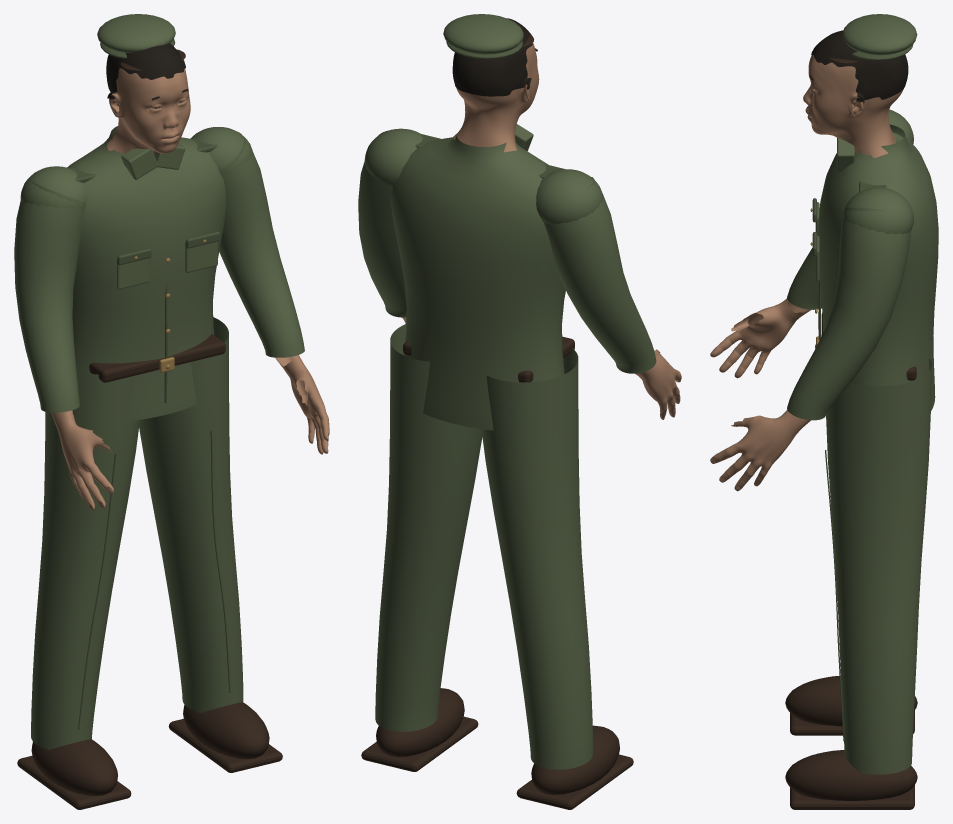
Rendered from chinese.glb.
3 views of the same model, side by side, from view 1: azimuth 30°, elevation 25°; view 2: azimuth 150°, elevation 25°; view 3: azimuth 270°, elevation 25° (orthographic). The views are drawn at different scales.
Visible parts, largest first — view 1: structured jacket, loose pressed trousers, loose pressed trousers.001, continuous long sleeve, anatomical face neck and hands, continuous long sleeve.001, closed leather shoe.001, closed leather shoe, service cap, shaped hair scalp, rounded shoulder seam, leather waist belt (+6 smaller); view 2: structured jacket, loose pressed trousers, loose pressed trousers.001, continuous long sleeve, anatomical face neck and hands, continuous long sleeve.001, shaped hair scalp, rounded shoulder seam, closed leather shoe, closed leather shoe.001, service cap, rounded shoulder seam.001 (+2 smaller); view 3: loose pressed trousers.001, structured jacket, anatomical face neck and hands, continuous long sleeve.001, closed leather shoe.001, shaped hair scalp, rounded shoulder seam.001, service cap, closed leather shoe, shoe sole.001, continuous long sleeve, shoe sole (+3 smaller).
Boxes of the visible parts, x1=… form: structured jacket: x1=67, y1=126, x2=226, y2=420; loose pressed trousers: x1=31, y1=372, x2=139, y2=749; loose pressed trousers.001: x1=139, y1=317, x2=243, y2=712; continuous long sleeve: x1=14, y1=181, x2=86, y2=412; anatomical face neck and hands: x1=51, y1=68, x2=329, y2=510; continuous long sleeve.001: x1=219, y1=132, x2=304, y2=357; closed leather shoe.001: x1=183, y1=702, x2=269, y2=759; closed leather shoe: x1=31, y1=739, x2=117, y2=795; service cap: x1=97, y1=14, x2=175, y2=52; shaped hair scalp: x1=106, y1=43, x2=185, y2=99; rounded shoulder seam: x1=20, y1=166, x2=86, y2=209; leather waist belt: x1=89, y1=334, x2=225, y2=382; structured jacket: x1=390, y1=132, x2=565, y2=430; loose pressed trousers: x1=481, y1=348, x2=593, y2=769; loose pressed trousers.001: x1=375, y1=324, x2=482, y2=731; continuous long sleeve: x1=544, y1=177, x2=656, y2=373; anatomical face neck and hands: x1=402, y1=43, x2=681, y2=419; continuous long sleeve.001: x1=358, y1=130, x2=406, y2=317; shaped hair scalp: x1=452, y1=18, x2=532, y2=96; rounded shoulder seam: x1=536, y1=169, x2=603, y2=224; closed leather shoe: x1=531, y1=725, x2=619, y2=794; closed leather shoe.001: x1=376, y1=688, x2=464, y2=757; service cap: x1=443, y1=14, x2=523, y2=54; rounded shoulder seam.001: x1=364, y1=128, x2=422, y2=185; loose pressed trousers.001: x1=826, y1=358, x2=931, y2=774; structured jacket: x1=818, y1=124, x2=938, y2=410; anatomical face neck and hands: x1=710, y1=55, x2=903, y2=491; continuous long sleeve.001: x1=787, y1=207, x2=911, y2=420; closed leather shoe.001: x1=785, y1=750, x2=917, y2=800; shaped hair scalp: x1=811, y1=30, x2=908, y2=102; rounded shoulder seam.001: x1=843, y1=187, x2=913, y2=234; service cap: x1=842, y1=14, x2=917, y2=55; closed leather shoe: x1=785, y1=675, x2=917, y2=726; shoe sole.001: x1=790, y1=785, x2=914, y2=809; continuous long sleeve: x1=787, y1=248, x2=821, y2=309; shoe sole: x1=790, y1=710, x2=914, y2=735.
Bounding box in the file's own units: 0.6494 × 1.76 × 0.4931.
